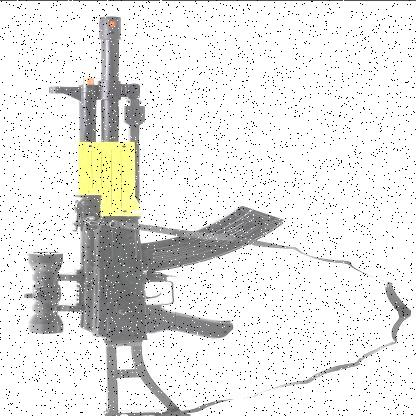rifle: (12, 10, 288, 416)
